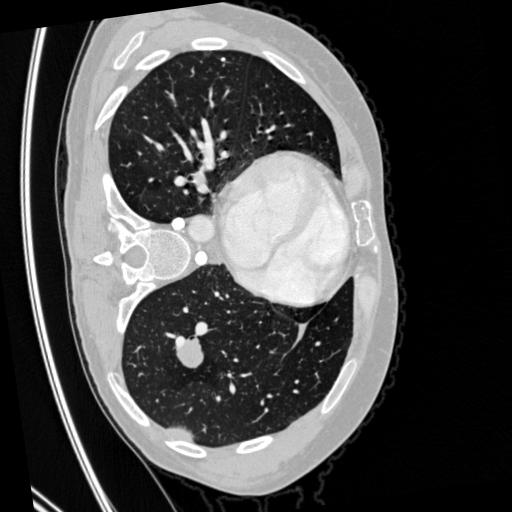nodule: (175, 339, 209, 373)
